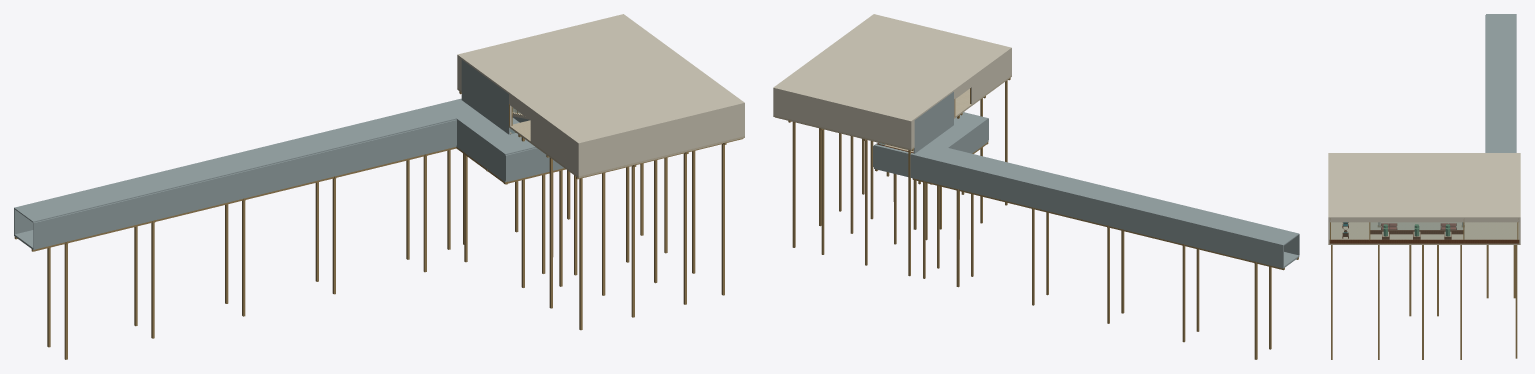
The model's file is D04_STARBOARD_FULL_COMMONS_r002.glb.
The picture shows the model from 3 angles, left to right: view 1: azimuth 30°, elevation 25°; view 2: azimuth 150°, elevation 25°; view 3: azimuth 270°, elevation 25°; orthographic projection. The views are drawn at different scales.
Parts seen in each view (by area): view 1: D04SC_CommonsRoof, D04SC_LowerServiceWall_1, D04SC_LowerStaffCeiling, D04SC_NorthWall, D04SC_StairWestScreen, D04SC_WestEntryNorth, D04SC_StaffLowerBridgeFloor, D04SC_LowerServiceWall_2, D04SC_LowerServiceWall_3, D04SC_LowerBridgeLong_-379.25, D04SC_CommonsFloor, D04SC_KeelPier_03 (+4 smaller); view 2: D04SC_CommonsRoof, D04SC_LowerServiceWall_7, D04SC_LowerStaffCeiling, D04SC_SouthWall, D04SC_StairWestScreen, D04SC_StaffLowerBridgeFloor, D04SC_WestEntryNorth, D04SC_LowerServiceWall_5, D04SC_LowerBridgeLong_-383.15, D04SC_CommonsFloor, D04SC_LowerServiceWall_2, D04SC_KeelPier_14 (+2 smaller); view 3: D04SC_CommonsRoof, D04SC_LowerStaffCeiling, D04SC_EastGlass, D04SC_CommonsFloor, D04SC_EastHead, D04SC_EastDado, D04SC_GardenGlass, D04SC_GardenDado, D04SC_KeelPier_14, D04SC_KeelPier_15, D04SC_KeelPier_16, D04SC_KeelPier_17 (+2 smaller).
Part boxes in pixels (<box>): D04SC_CommonsRoof: <box>457,14,744,144</box>; D04SC_LowerServiceWall_1: <box>33,119,456,248</box>; D04SC_LowerStaffCeiling: <box>14,98,536,222</box>; D04SC_NorthWall: <box>578,104,744,176</box>; D04SC_StairWestScreen: <box>461,60,510,134</box>; D04SC_WestEntryNorth: <box>530,110,579,176</box>; D04SC_StaffLowerBridgeFloor: <box>14,118,563,249</box>; D04SC_LowerServiceWall_2: <box>457,120,505,180</box>; D04SC_LowerServiceWall_3: <box>505,148,562,180</box>; D04SC_LowerBridgeLong_-379.25: <box>31,147,456,251</box>; D04SC_CommonsFloor: <box>457,88,744,178</box>; D04SC_KeelPier_03: <box>579,177,582,330</box>; D04SC_CommonsRoof: <box>773,14,1011,122</box>; D04SC_LowerServiceWall_7: <box>932,160,1283,266</box>; D04SC_LowerStaffCeiling: <box>874,112,1299,245</box>; D04SC_SouthWall: <box>773,89,911,148</box>; D04SC_StairWestScreen: <box>913,92,953,153</box>; D04SC_StaffLowerBridgeFloor: <box>874,140,1299,268</box>; D04SC_WestEntryNorth: <box>971,49,1011,104</box>; D04SC_LowerServiceWall_5: <box>874,146,911,176</box>; D04SC_LowerBridgeLong_-383.15: <box>912,178,1284,270</box>; D04SC_CommonsFloor: <box>773,75,1011,150</box>; D04SC_LowerServiceWall_2: <box>949,119,988,153</box>; D04SC_KeelPier_14: <box>792,122,795,247</box>; D04SC_CommonsRoof: <box>1328,153,1520,218</box>; D04SC_LowerStaffCeiling: <box>1486,14,1516,152</box>; D04SC_EastGlass: <box>1331,222,1518,239</box>; D04SC_CommonsFloor: <box>1328,222,1520,244</box>; D04SC_EastHead: <box>1329,218,1519,222</box>; D04SC_EastDado: <box>1329,239,1519,243</box>; D04SC_GardenGlass: <box>1371,223,1462,229</box>; D04SC_GardenDado: <box>1370,230,1463,234</box>; D04SC_KeelPier_14: <box>1515,246,1517,358</box>; D04SC_KeelPier_15: <box>1460,246,1461,359</box>; D04SC_KeelPier_16: <box>1422,246,1423,359</box>; D04SC_KeelPier_17: <box>1378,246,1379,359</box>.
Bounding box in the file's own units: 81 × 23.9 × 27.8.
Materials: 87 (82 with a texture image).
